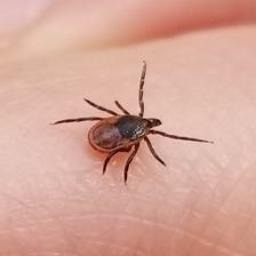Ixodes scapularis: (51, 60, 206, 181)
